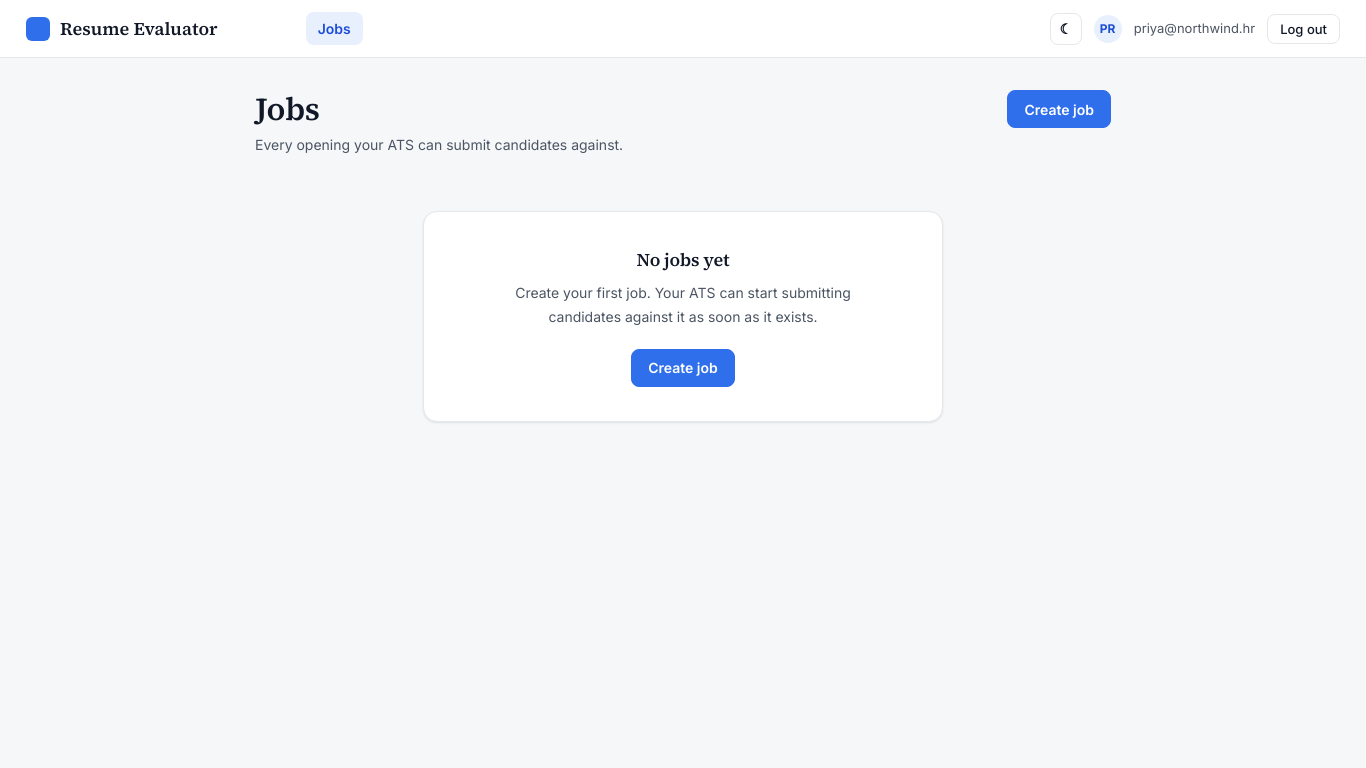
Test: Phase 7 - logout revokes the refresh token on the server › the Log out button revokes on the server and returns to /login
Click the button "Log out" at {"x": 1304, "y": 28}, box x1=1267 y1=14 x2=1340 y2=44
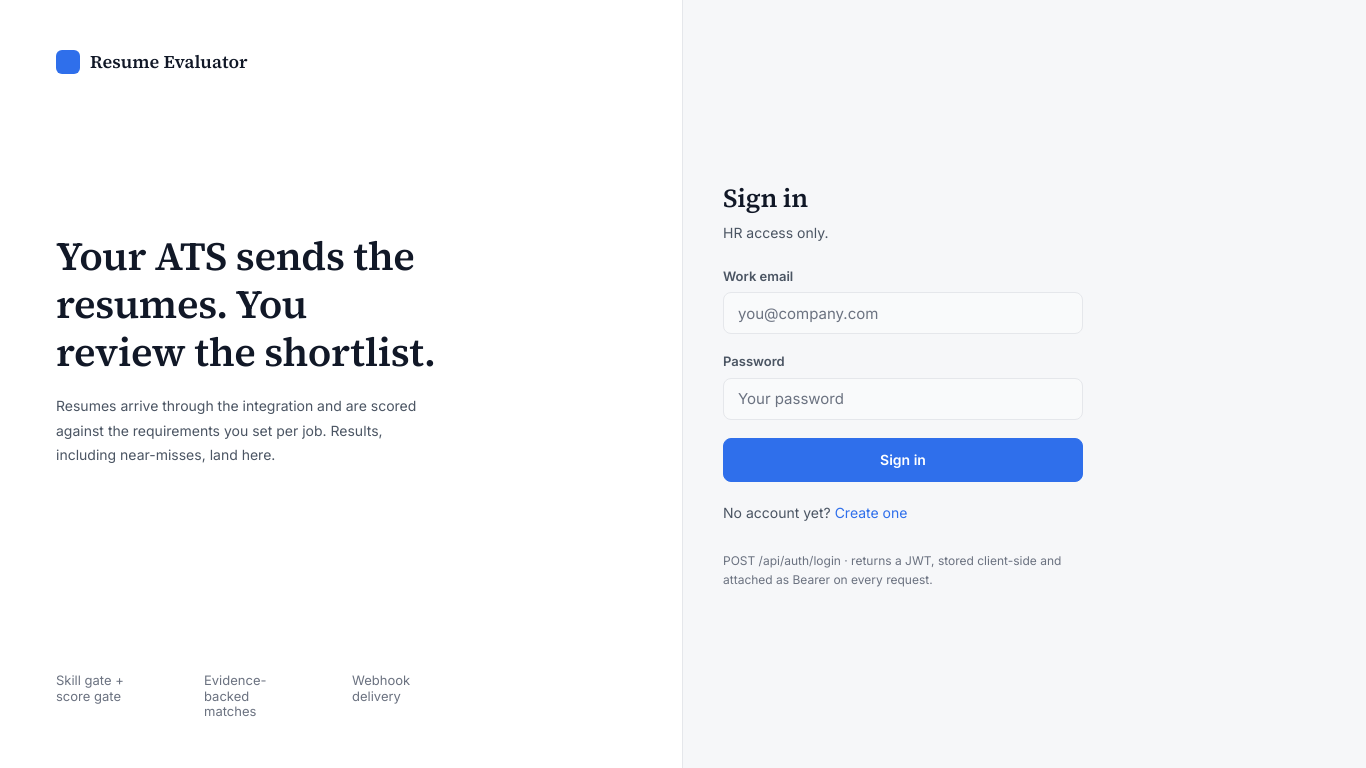
Now the heading "Sign in" is shown, box x1=723 y1=180 x2=808 y2=216
